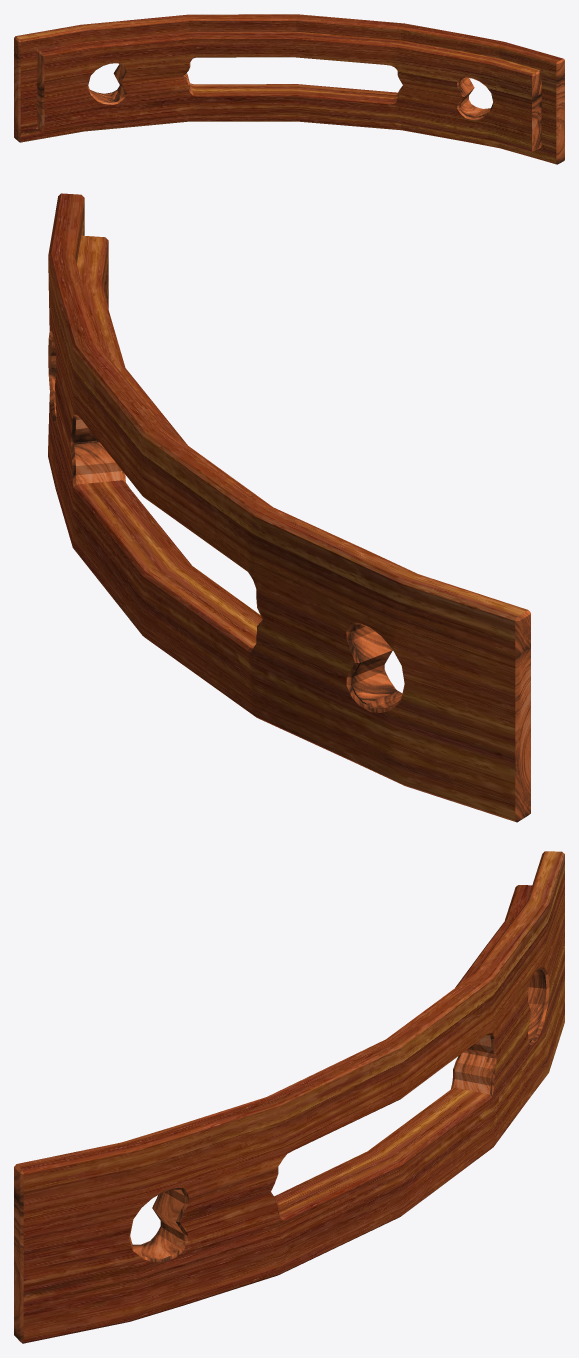
File: yuandeng_J_D_shuyao_03.FBX
3 renders of one model, top to bottom at view 1: azimuth 30°, elevation 25°; view 2: azimuth 150°, elevation 25°; view 3: azimuth 270°, elevation 25°, orthographic. The views are drawn at different scales.
Visible parts, largest first — view 1: yuandeng_J_D_shuyao_03; view 2: yuandeng_J_D_shuyao_03; view 3: yuandeng_J_D_shuyao_03.
Boxes of the visible parts, box(x1,y1,x2,y2) form: yuandeng_J_D_shuyao_03: box(14, 14, 564, 164); yuandeng_J_D_shuyao_03: box(48, 193, 530, 822); yuandeng_J_D_shuyao_03: box(14, 851, 564, 1343).
Bounding box in the file's own units: 16.75 × 4.2 × 12.12.
